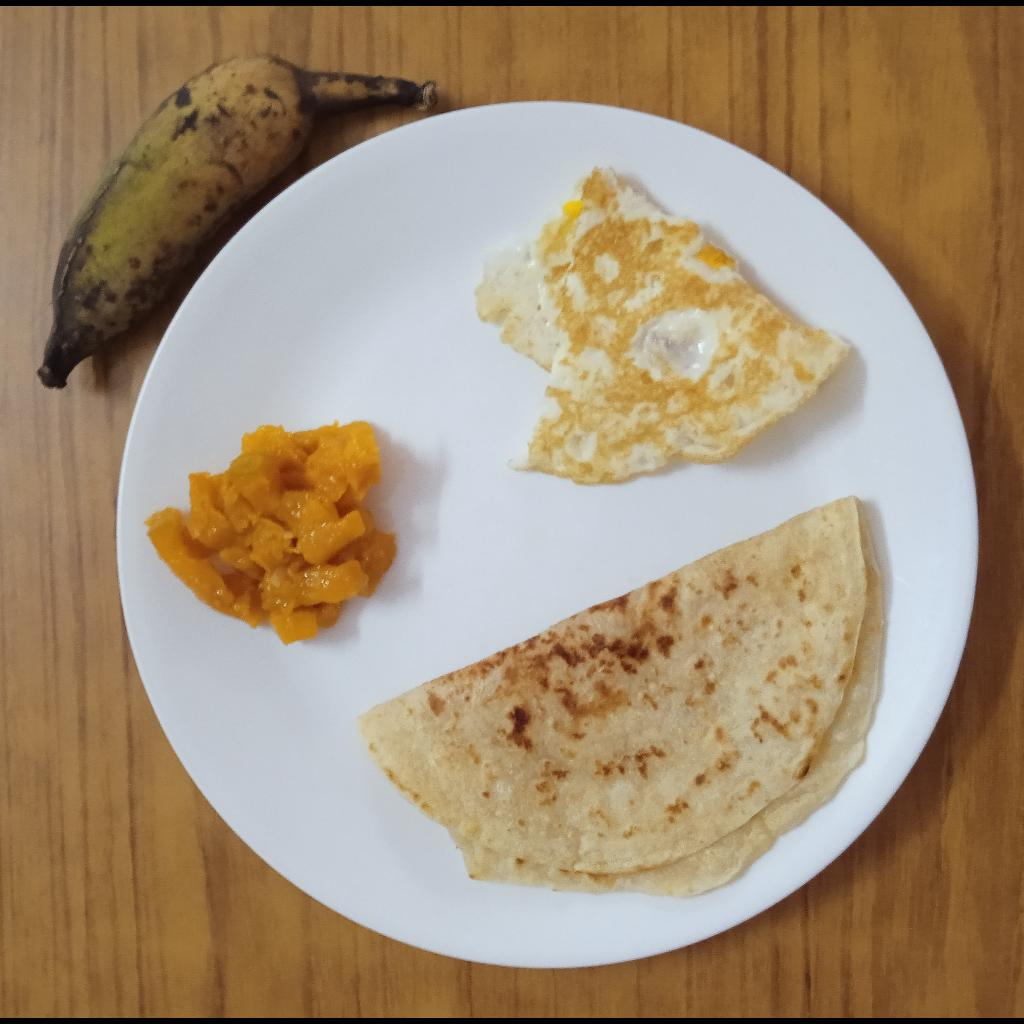banana: (33, 54, 444, 391)
egg-poached: (473, 162, 858, 488)
kumra-vaji: (147, 420, 402, 644)
ruti: (361, 493, 888, 900)
